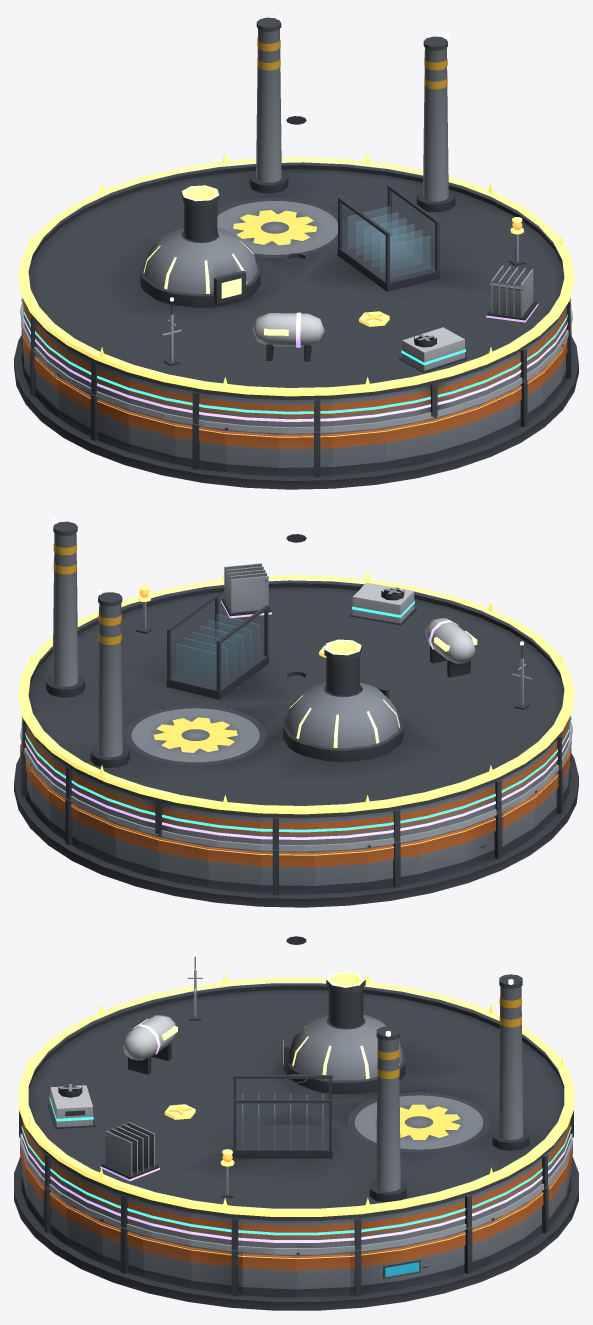
Rendered from glassworks_m.glb.
The picture shows the model from 3 angles, top to bottom: view 1: azimuth 30°, elevation 25°; view 2: azimuth 150°, elevation 25°; view 3: azimuth 270°, elevation 25°; orthographic projection.
Parts seen in each view (by area): view 1: Roof, Base, L4, Wall_21, Wall_20, Wall_22, L3, Wall_19, Wall_23, Wall_18, Wall_24, Wall_17 (+20 smaller); view 2: Roof, Base, L4, Wall_10, Wall_11, Wall_09, L3, Wall_12, Wall_08, Wall_13, Wall_07, Wall_14 (+24 smaller); view 3: Roof, Base, L4, Wall_31, Wall_00, Wall_30, Wall_29, Wall_01, Wall_02, Wall_28, L3, Wall_03 (+24 smaller).
Part boxes in pixels (x1=…): Roof: x1=28, y1=14, x2=567, y2=400; Base: x1=14, y1=335, x2=578, y2=489; L4: x1=252, y1=265, x2=538, y2=361; Wall_21: x1=278, y1=431, x2=332, y2=477; Wall_20: x1=225, y1=427, x2=278, y2=475; Wall_22: x1=332, y1=427, x2=384, y2=475; L3: x1=285, y1=253, x2=468, y2=372; Wall_19: x1=174, y1=421, x2=225, y2=471; Wall_23: x1=384, y1=418, x2=434, y2=469; Wall_18: x1=128, y1=410, x2=175, y2=463; Wall_24: x1=433, y1=405, x2=478, y2=460; Wall_17: x1=89, y1=394, x2=129, y2=452; Roof: x1=25, y1=518, x2=564, y2=818; Base: x1=14, y1=753, x2=578, y2=907; L4: x1=221, y1=563, x2=477, y2=677; Wall_10: x1=260, y1=849, x2=314, y2=895; Wall_11: x1=314, y1=847, x2=367, y2=893; Wall_09: x1=208, y1=845, x2=260, y2=893; L3: x1=285, y1=582, x2=417, y2=680; Wall_12: x1=367, y1=839, x2=418, y2=889; Wall_08: x1=158, y1=834, x2=208, y2=887; Wall_13: x1=417, y1=828, x2=464, y2=881; Wall_07: x1=114, y1=823, x2=159, y2=878; Wall_14: x1=463, y1=812, x2=503, y2=870; Roof: x1=26, y1=936, x2=566, y2=1220; Base: x1=14, y1=1156, x2=578, y2=1310; L4: x1=100, y1=1015, x2=177, y2=1181; Wall_31: x1=242, y1=1252, x2=296, y2=1297; Wall_00: x1=296, y1=1252, x2=350, y2=1297; Wall_30: x1=190, y1=1246, x2=242, y2=1296; Wall_29: x1=142, y1=1235, x2=191, y2=1288; Wall_01: x1=350, y1=1246, x2=402, y2=1296; Wall_02: x1=401, y1=1235, x2=450, y2=1288; Wall_28: x1=101, y1=1218, x2=143, y2=1277; L3: x1=48, y1=1073, x2=307, y2=1128; Wall_03: x1=449, y1=1221, x2=491, y2=1277.
Bounding box in the file's own units: 14.75 × 7.39 × 14.75.
